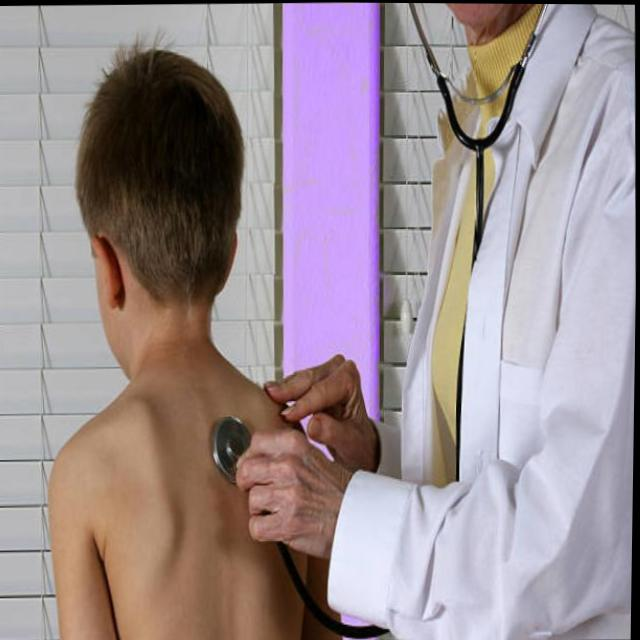no helmet: (74, 51, 251, 372)
